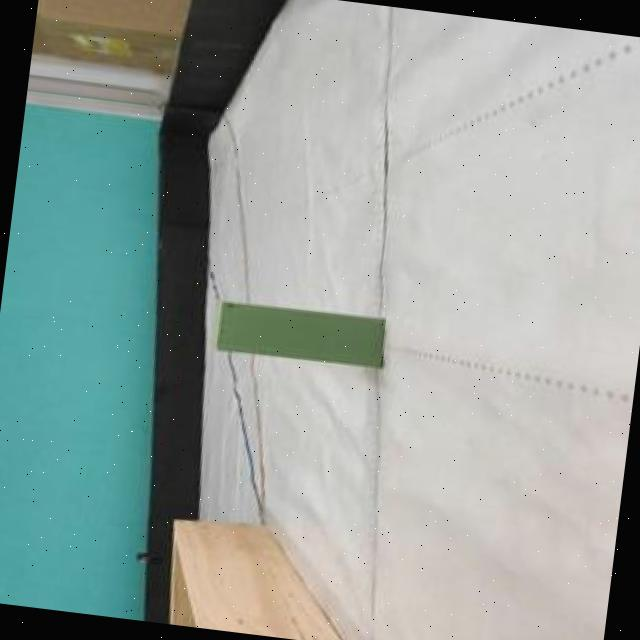greenbox: (213, 298, 390, 369)
